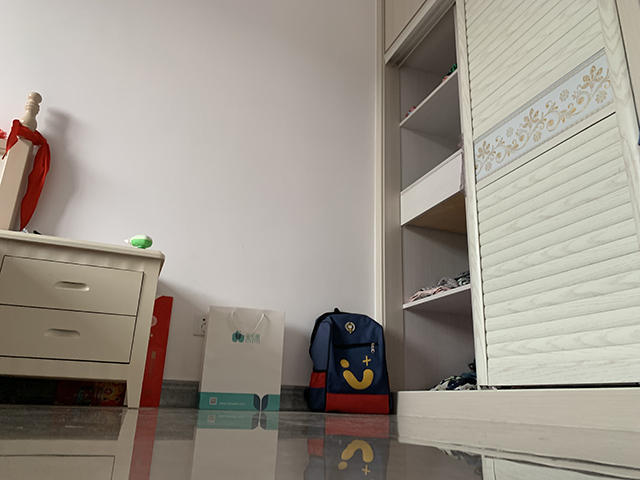cabinet: (372, 1, 640, 433), (1, 229, 167, 409)
